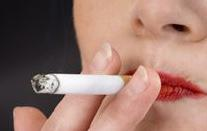smoke: (29, 70, 132, 95)
